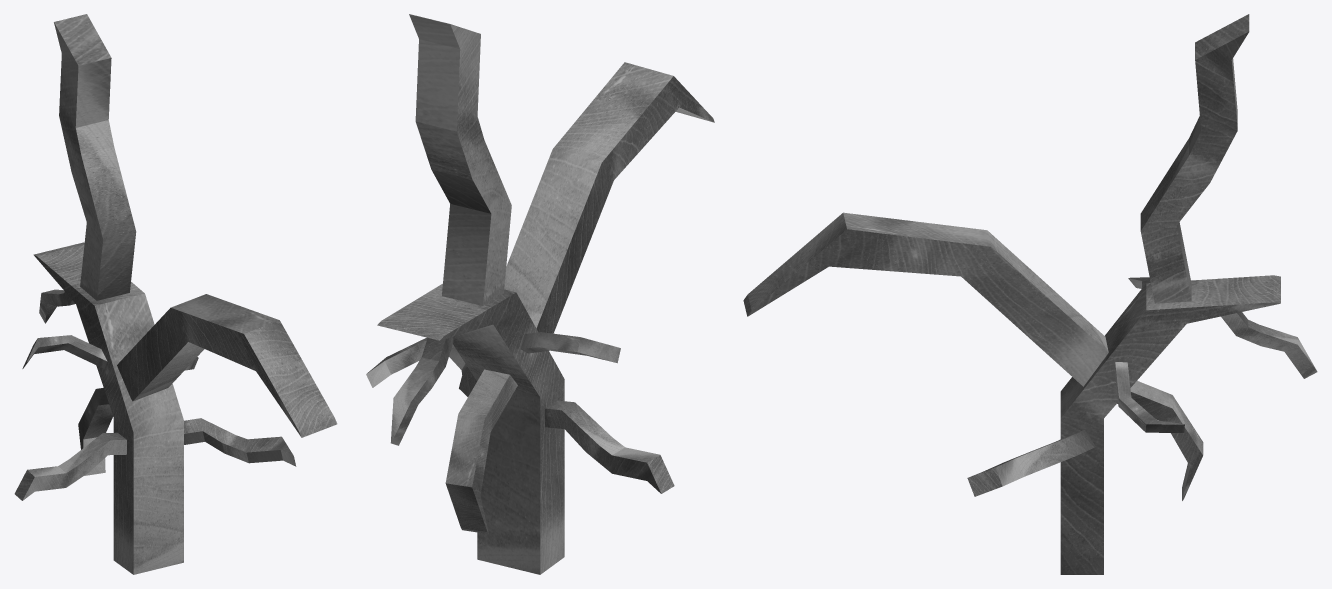
The model's file is plant.fbx.
3 renders of one model, left to right at view 1: azimuth 30°, elevation 25°; view 2: azimuth 150°, elevation 25°; view 3: azimuth 270°, elevation 25°, orthographic. The views are drawn at different scales.
Visible parts, largest first — view 1: Trunk, Branch_Top, Branch_Left, Branch_Back_Bottom, Branch_Front_Bottom, Branch_Right_Bottom, Branch_Back_Top, Branch_Right_Top; view 2: Trunk, Branch_Left, Branch_Top, Branch_Right_Bottom, Branch_Back_Bottom, Branch_Right_Top, Branch_Back_Top, Branch_Front_Top, Branch_Front_Bottom; view 3: Branch_Left, Trunk, Branch_Top, Branch_Front_Bottom, Branch_Right_Bottom, Branch_Right_Top, Branch_Front_Top.
Boxes of the visible parts, x1,y1,x2,y2 form: Trunk: [33, 242, 183, 574]; Branch_Top: [54, 14, 136, 300]; Branch_Left: [117, 294, 337, 437]; Branch_Back_Bottom: [14, 432, 126, 500]; Branch_Front_Bottom: [184, 418, 296, 466]; Branch_Right_Bottom: [78, 387, 113, 475]; Branch_Back_Top: [22, 335, 107, 368]; Branch_Right_Top: [39, 289, 75, 323]; Trunk: [377, 283, 564, 574]; Branch_Left: [504, 62, 714, 333]; Branch_Top: [409, 14, 511, 305]; Branch_Right_Bottom: [445, 369, 517, 534]; Branch_Back_Bottom: [545, 400, 674, 493]; Branch_Right_Top: [390, 336, 454, 445]; Branch_Back_Top: [521, 332, 620, 363]; Branch_Front_Top: [366, 337, 454, 387]; Branch_Front_Bottom: [449, 347, 476, 396]; Branch_Left: [743, 212, 1108, 386]; Trunk: [1060, 275, 1280, 574]; Branch_Top: [1140, 14, 1249, 303]; Branch_Front_Bottom: [967, 430, 1095, 496]; Branch_Right_Bottom: [1117, 380, 1203, 500]; Branch_Right_Top: [1221, 312, 1317, 378]; Branch_Front_Top: [1115, 362, 1184, 432].
Size of the model in its own units: 39.16 by 81.6 by 79.04.
